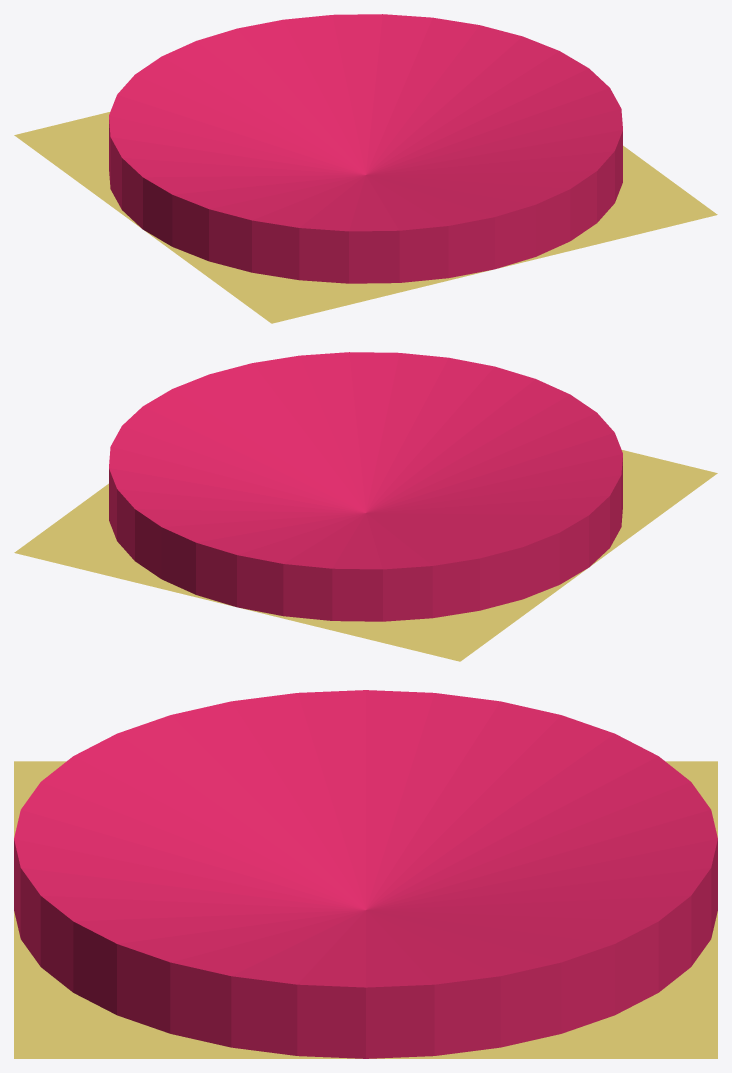
The model's file is dartboard.fbx.
The picture shows the model from 3 angles, top to bottom: view 1: azimuth 30°, elevation 25°; view 2: azimuth 150°, elevation 25°; view 3: azimuth 270°, elevation 25°; orthographic projection. The views are drawn at different scales.
Visible parts, largest first — view 1: Circle, Plane; view 2: Circle, Plane; view 3: Circle, Plane.
Boxes of the visible parts, x1=… form: Circle: x1=109, y1=14, x2=622, y2=283; Plane: x1=14, y1=112, x2=717, y2=323; Circle: x1=109, y1=352, x2=622, y2=621; Plane: x1=14, y1=450, x2=717, y2=661; Circle: x1=14, y1=690, x2=717, y2=1058; Plane: x1=14, y1=761, x2=717, y2=1058.
Bounding box in the file's own units: 200 × 23.02 × 200.
